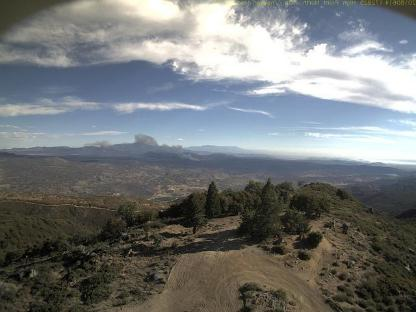smoke: (132, 132, 202, 164)
